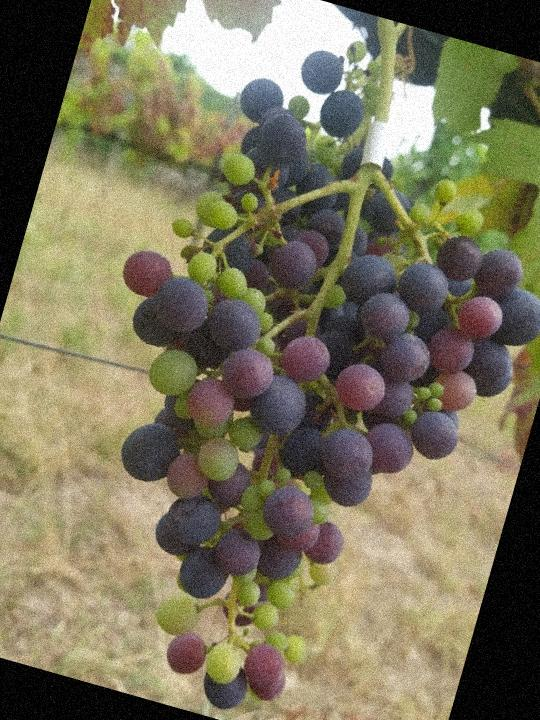grape: (13, 0, 540, 720)
